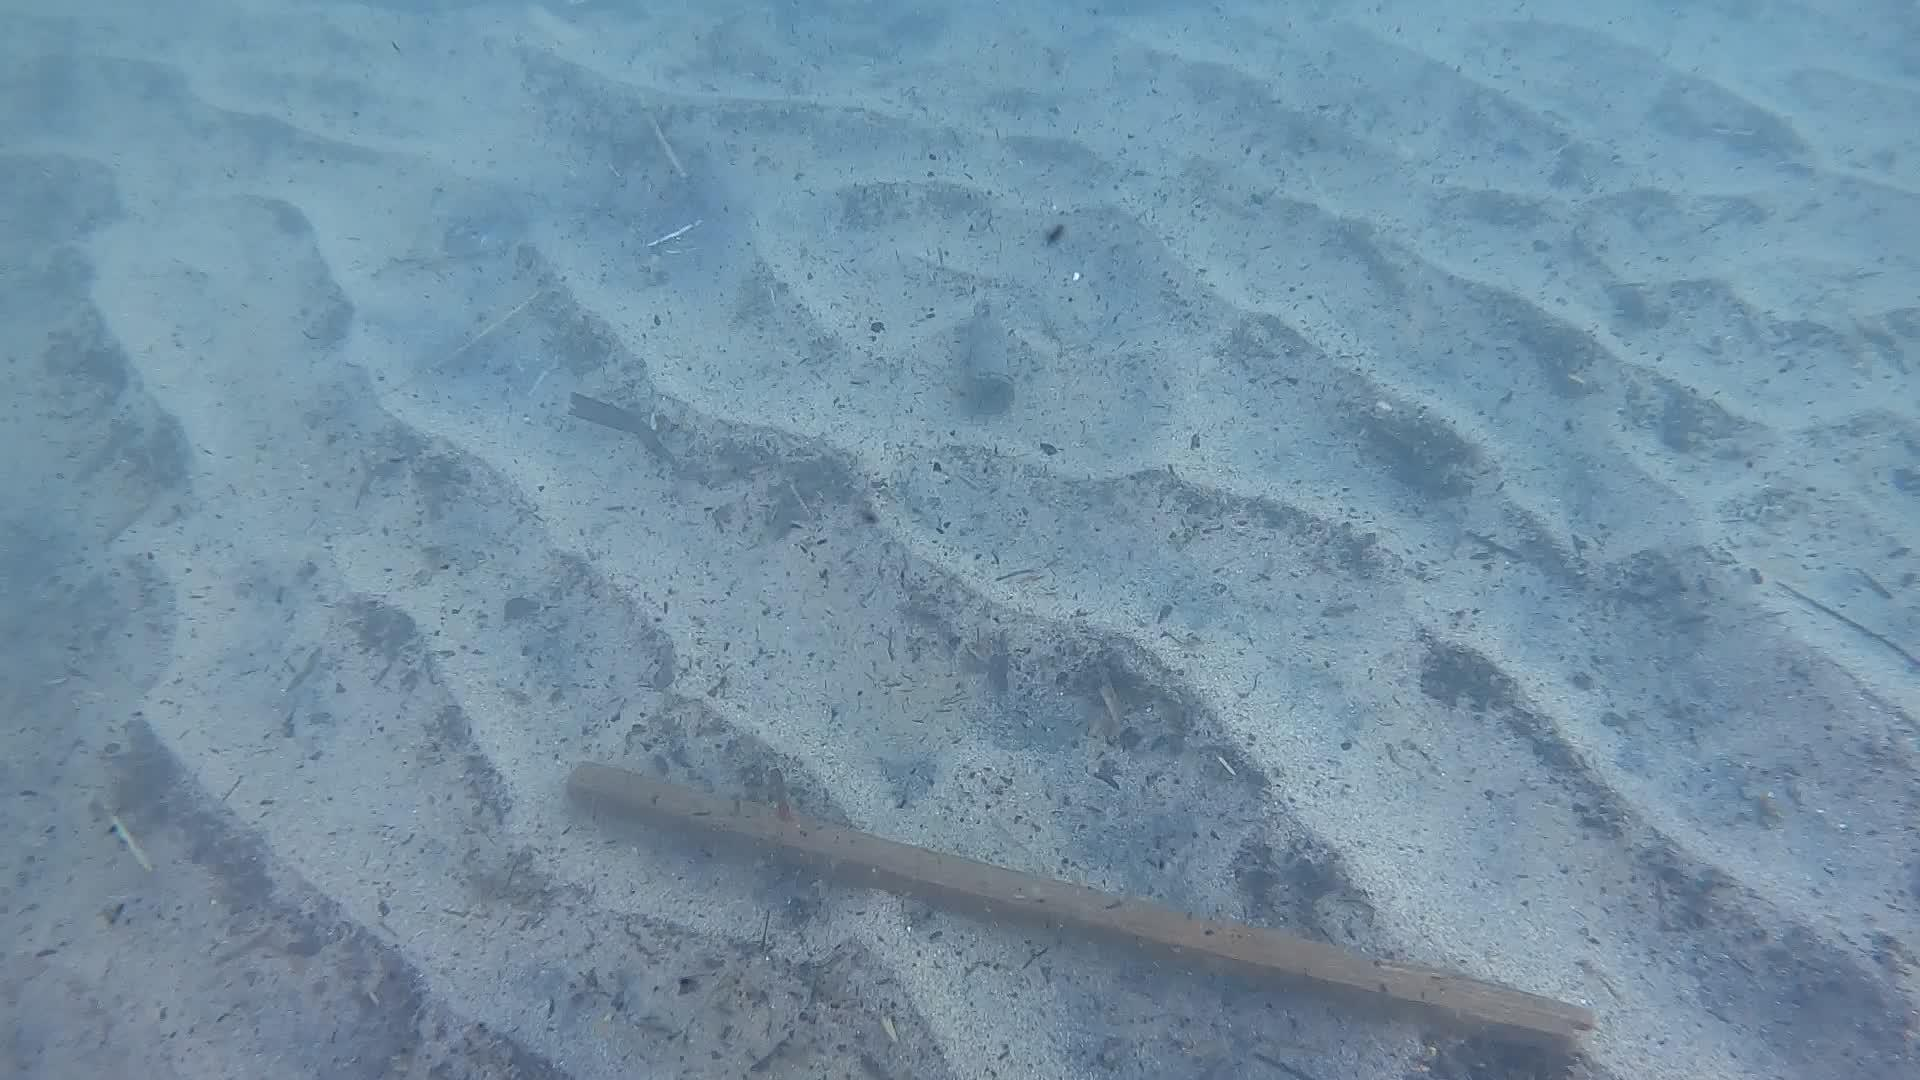wood: (560, 758, 1596, 1062)
